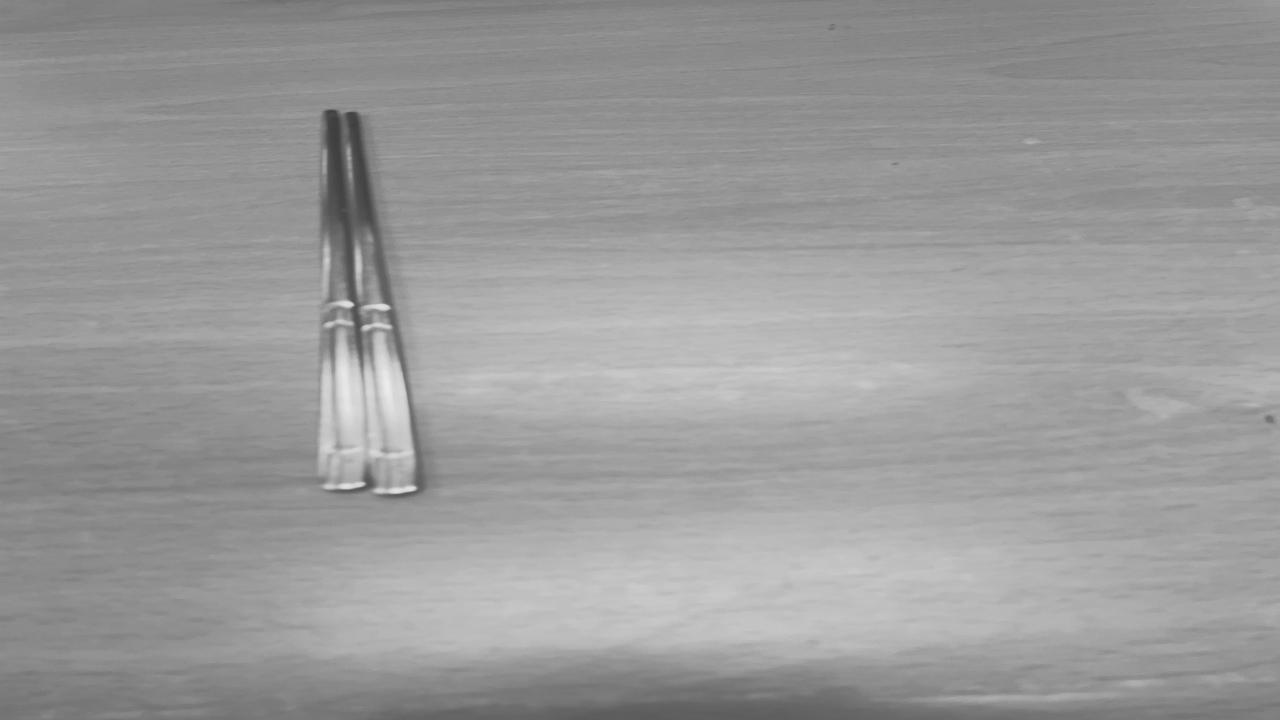chopstick: (322, 109, 417, 495)
